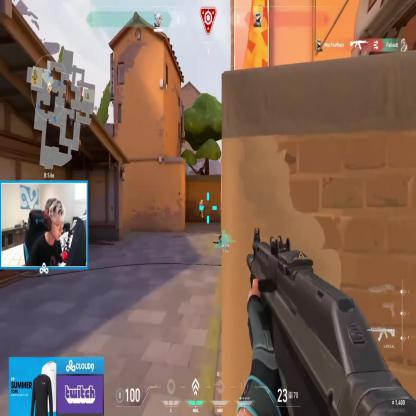enemy: (199, 199, 204, 220)
enemy_head: (200, 199, 203, 205)
